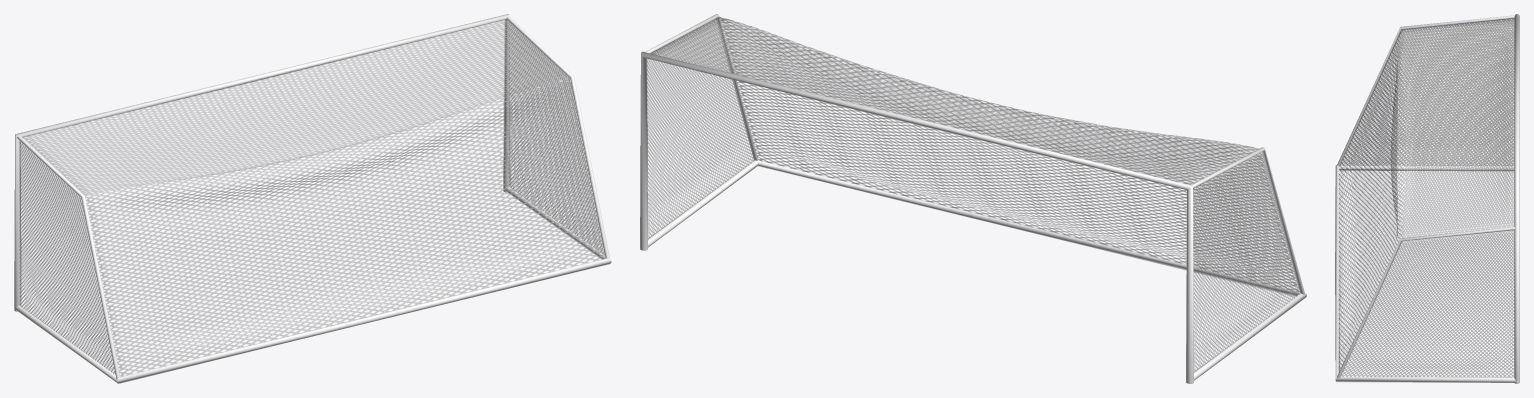
Rendered from goal.glb.
3 renders of one model, left to right at view 1: azimuth 30°, elevation 25°; view 2: azimuth 150°, elevation 25°; view 3: azimuth 270°, elevation 25°, orthographic. The views are drawn at different scales.
Parts seen in each view (by area): view 1: Rectangular Goalpost; view 2: Rectangular Goalpost; view 3: Rectangular Goalpost.
Part boxes in pixels (left/top/right/bottom): Rectangular Goalpost: left=14, top=14, right=611, bottom=383; Rectangular Goalpost: left=640, top=14, right=1306, bottom=383; Rectangular Goalpost: left=1335, top=14, right=1519, bottom=383.
Size of the model in its own units: 7.35 by 2.49 by 2.68.
Materials: 1 (1 with a texture image).
